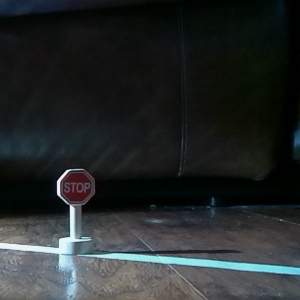stop sign: (53, 165, 98, 258)
